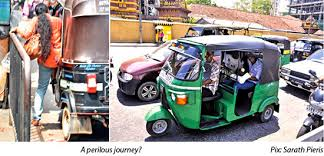tuk tuk: (144, 37, 281, 139), (60, 1, 109, 141), (294, 36, 313, 61)
